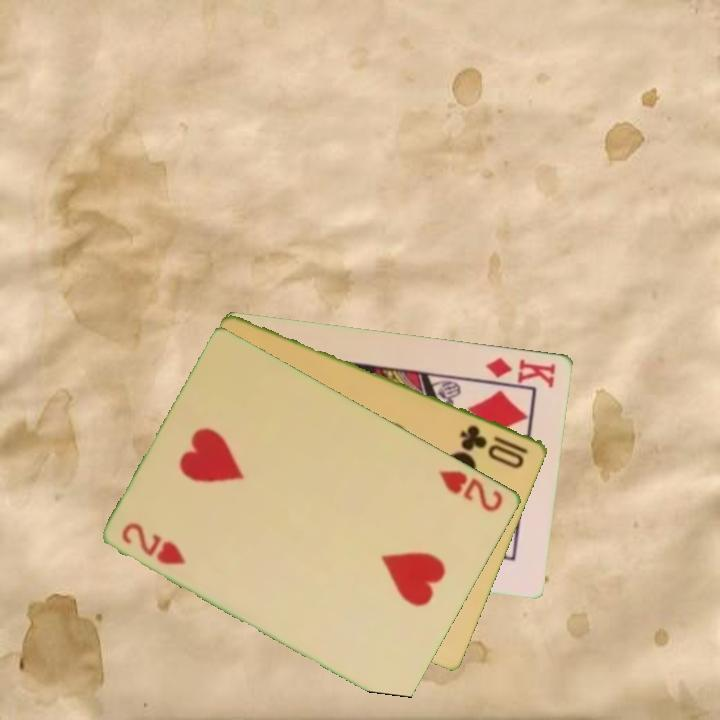10c: (457, 421, 532, 471)
2h: (118, 518, 190, 568), (435, 466, 507, 515)
Kd: (483, 354, 559, 390)
